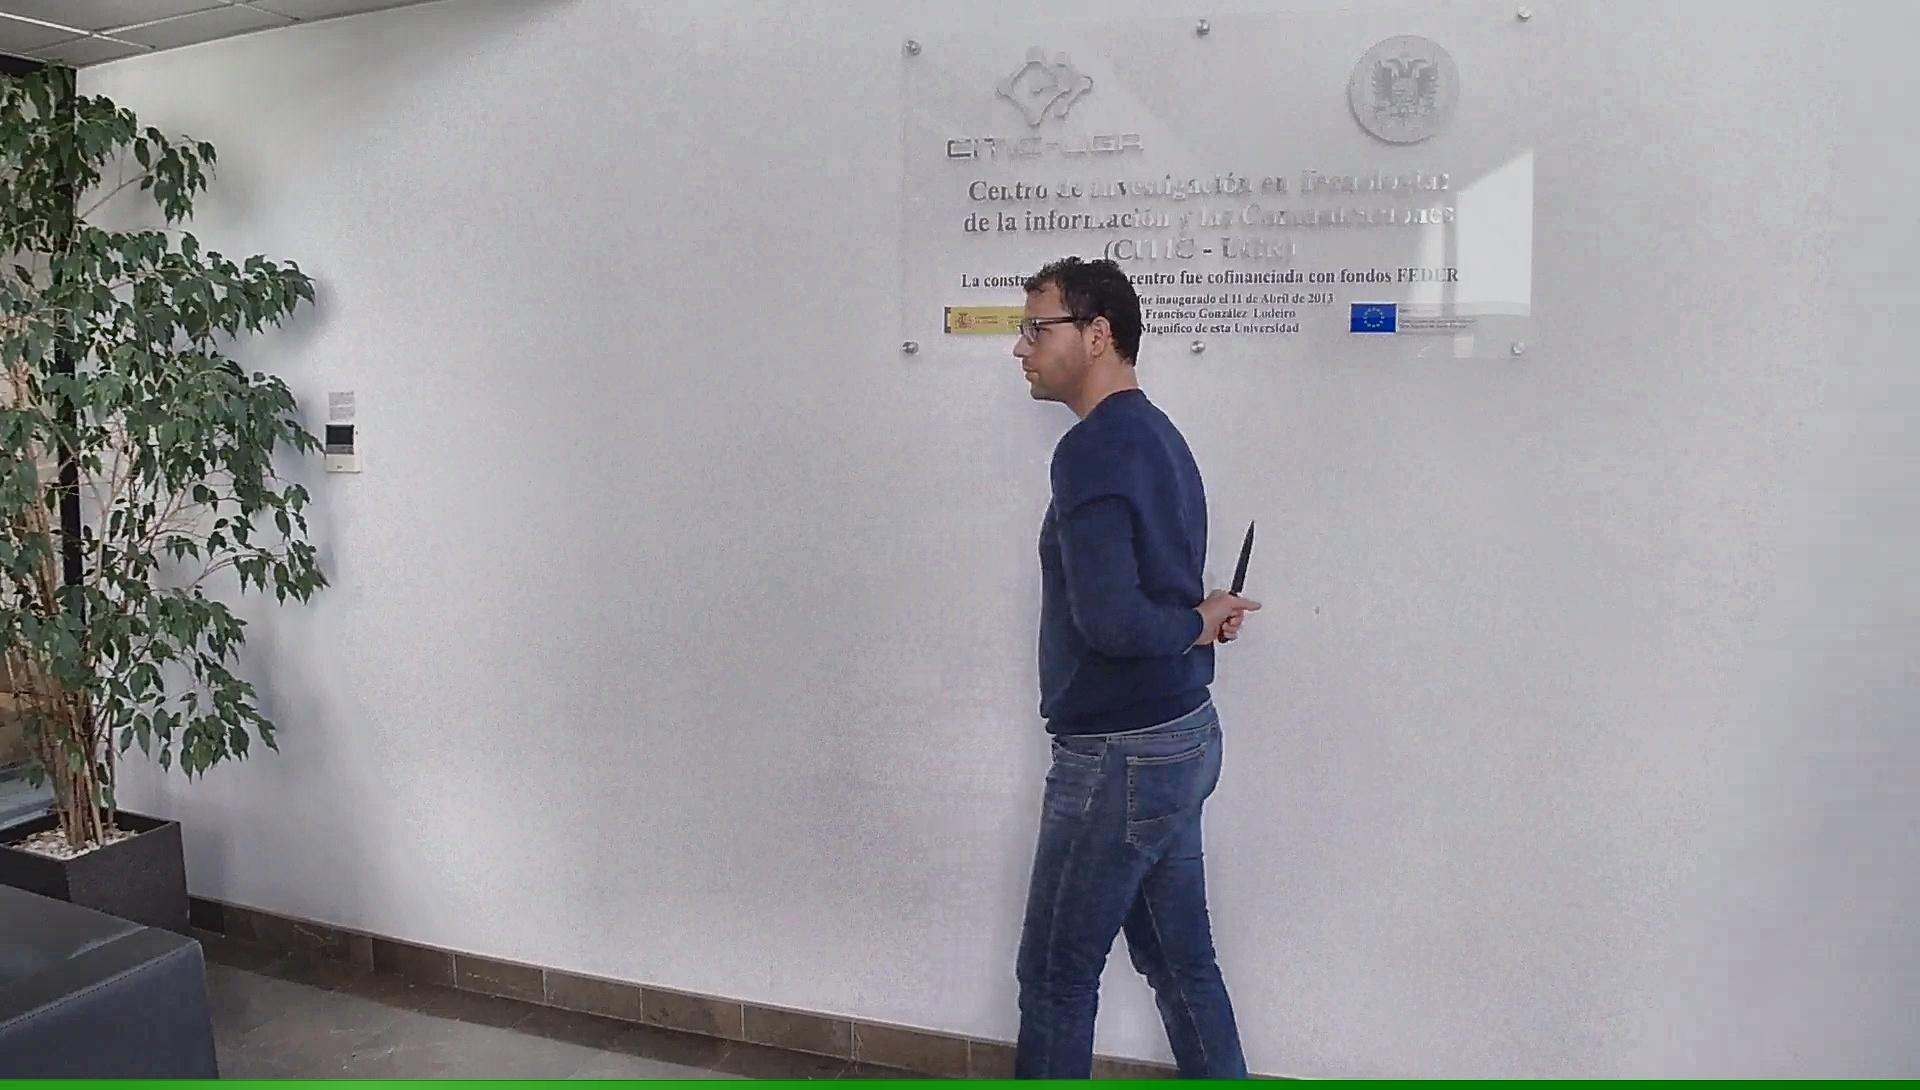criminal: (1007, 253, 1265, 1082)
weapon: (1215, 517, 1261, 645)
